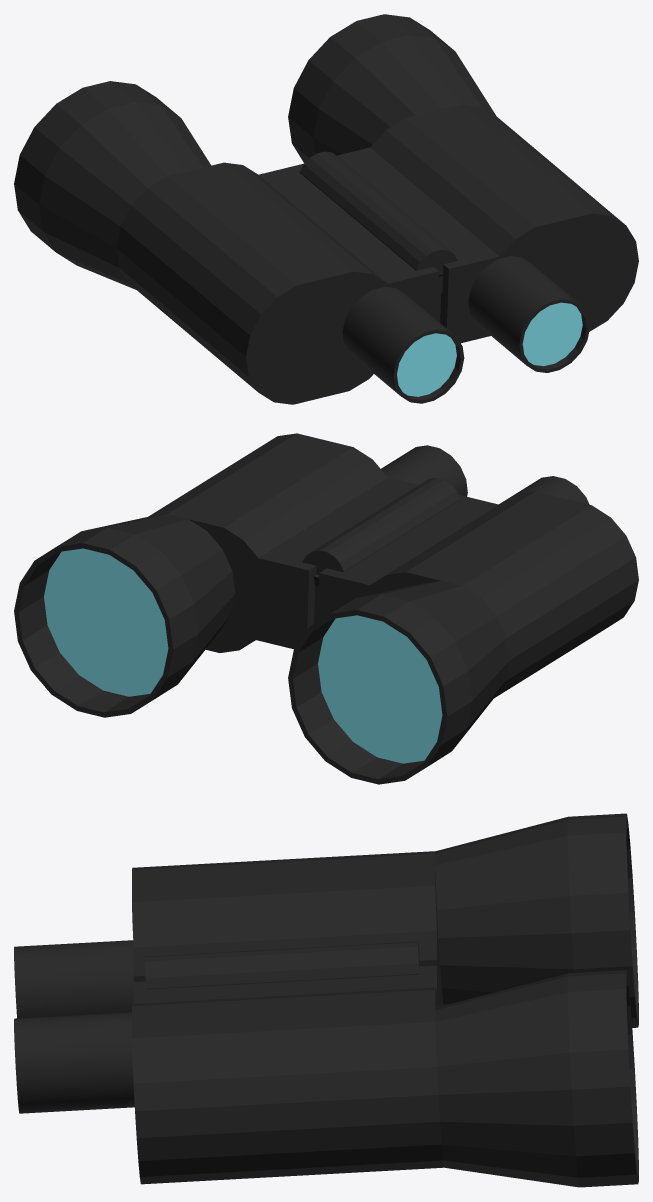
File: binoculars.gltf
3 renders of one model, top to bottom at view 1: azimuth 30°, elevation 25°; view 2: azimuth 150°, elevation 25°; view 3: azimuth 270°, elevation 25°, orthographic. The views are drawn at different scales.
Visible parts, largest first — view 1: node-0; view 2: node-0; view 3: node-0.
Part boxes in pixels (x1,y1,x2,y2): node-0: (14, 14, 638, 404); node-0: (14, 433, 638, 784); node-0: (14, 813, 638, 1187).
Size of the model in its own units: 554015 by 203539 by 591047.
